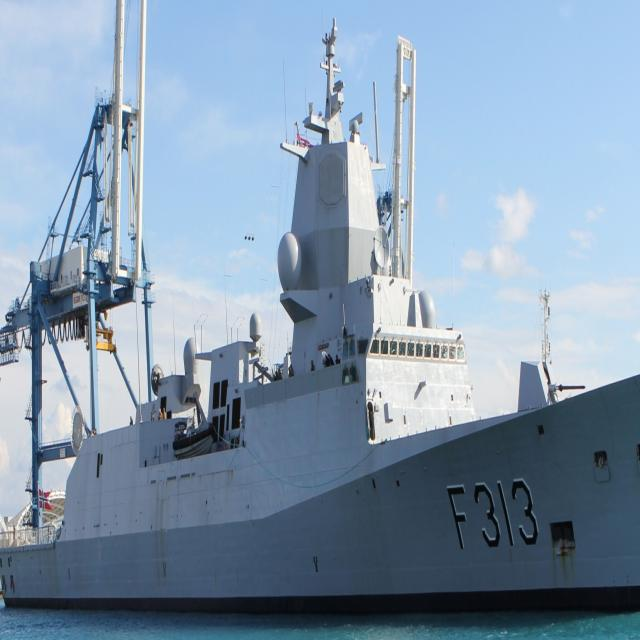Fragata: (1, 6, 527, 636)
